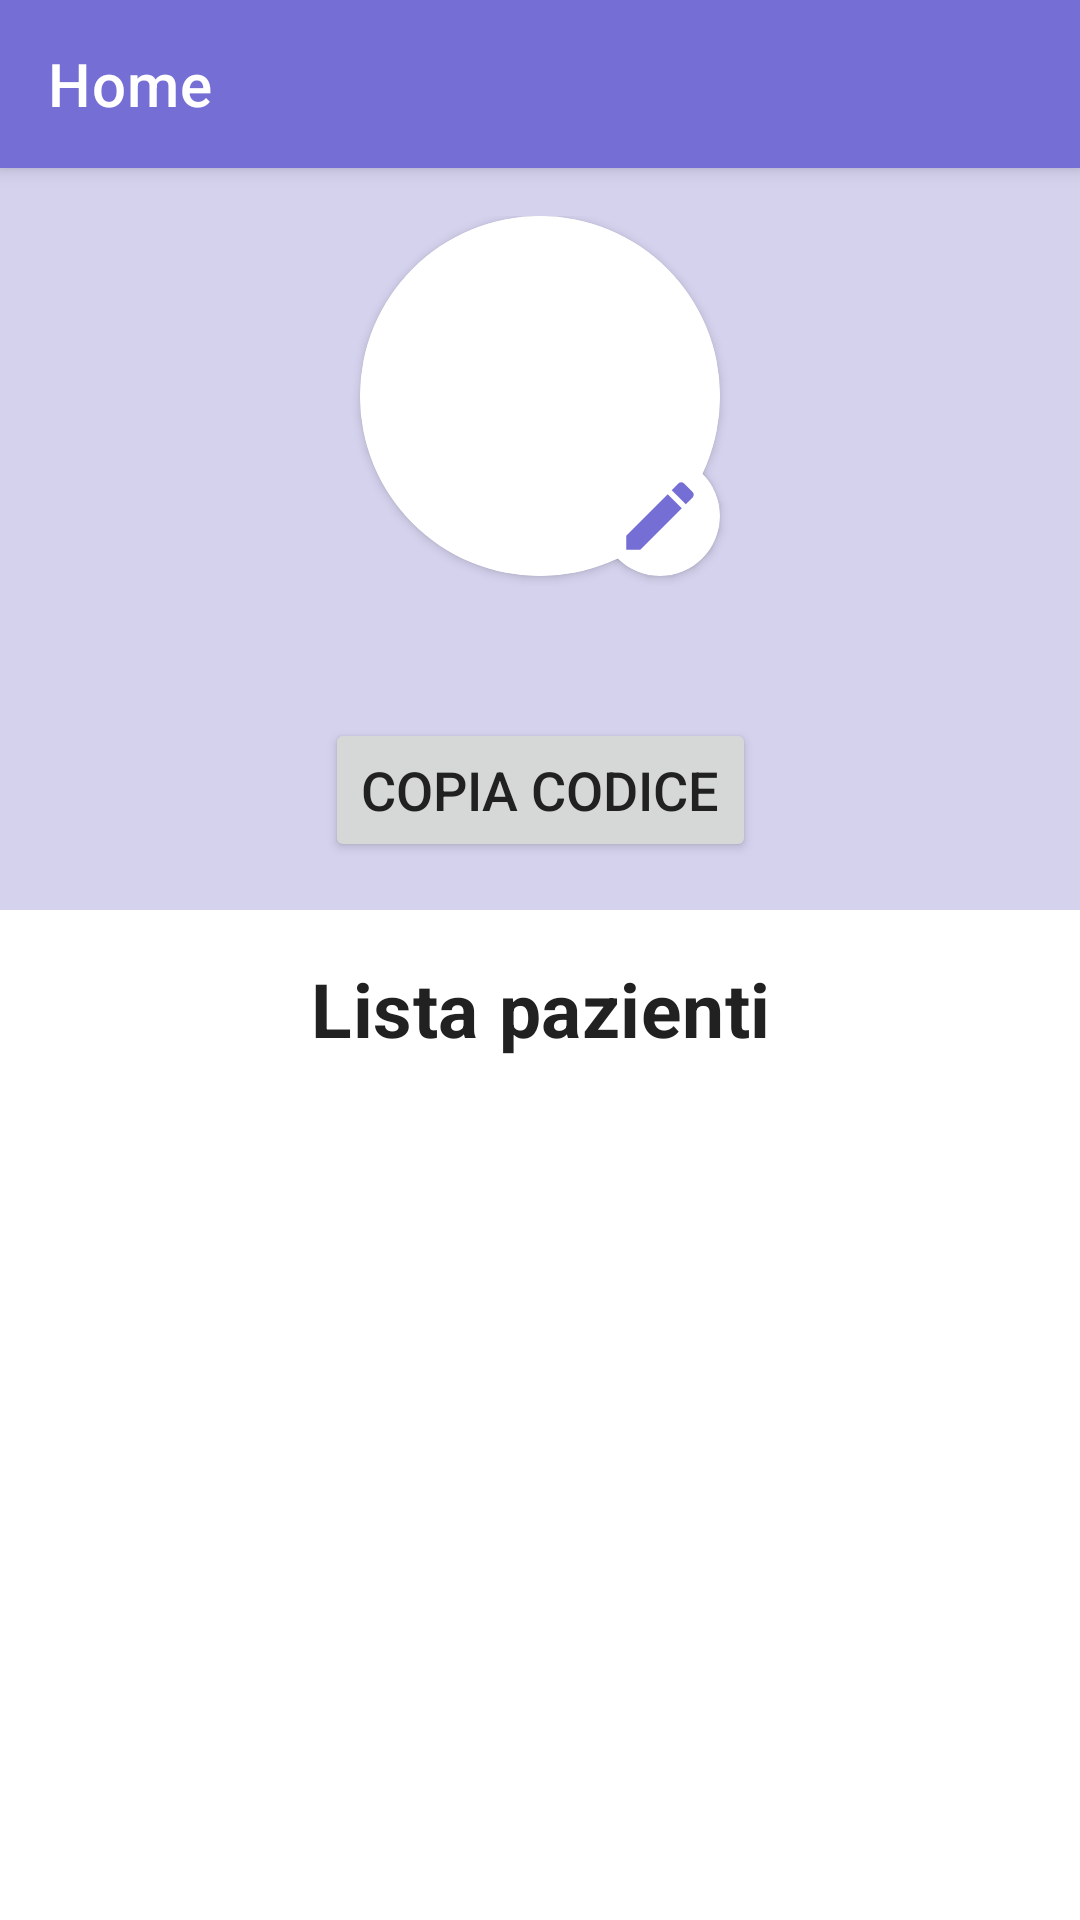

Where to tap for icons on this 1080*1920 app screen, as (x,y):
edit: (660,516)
